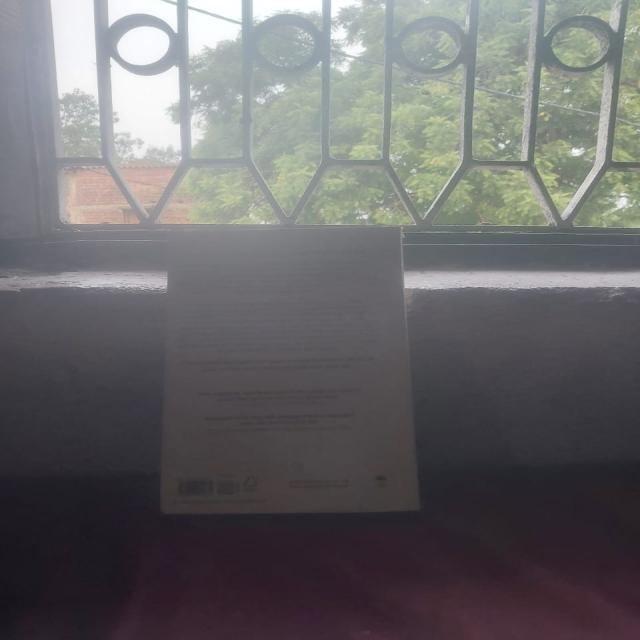Book: (144, 212, 445, 520)
